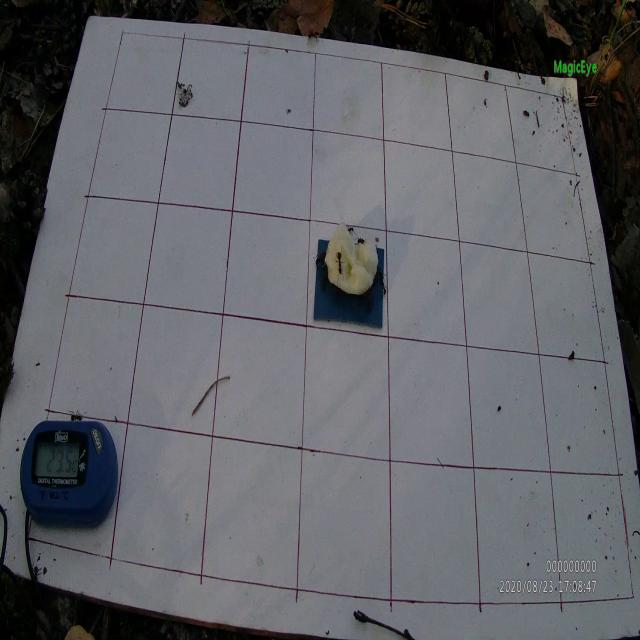Ant: (336, 247, 346, 285), (68, 408, 88, 422), (32, 563, 42, 585)
